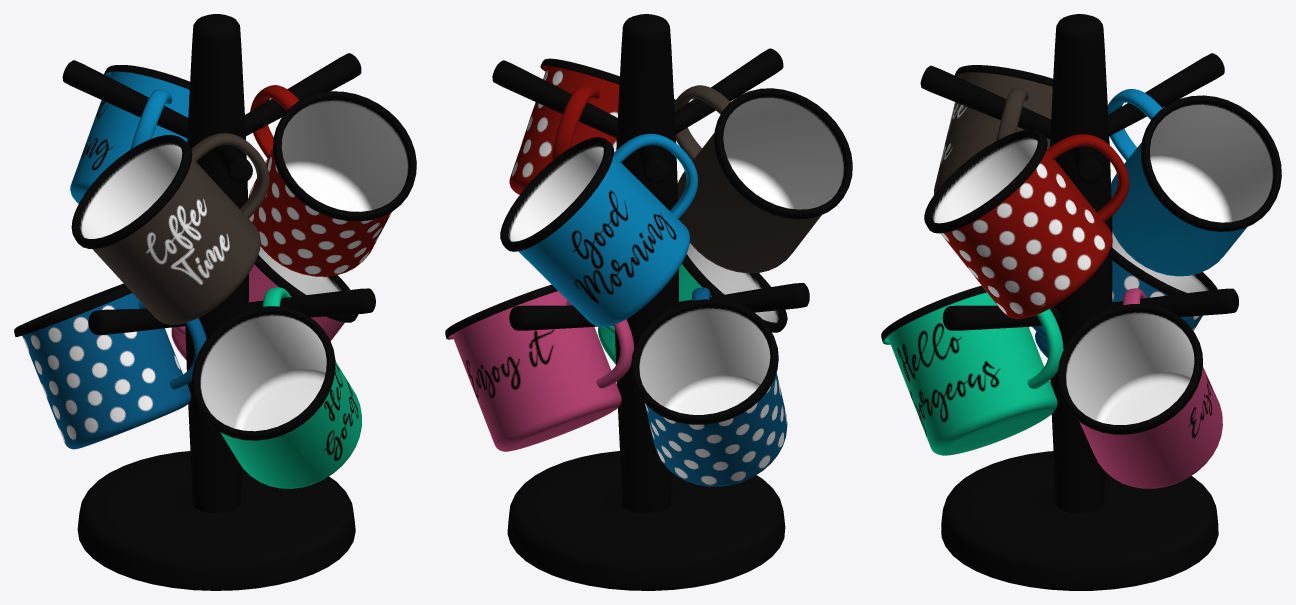
File: metal mug holder.fbx
The picture shows the model from 3 angles, left to right: view 1: azimuth 30°, elevation 25°; view 2: azimuth 150°, elevation 25°; view 3: azimuth 270°, elevation 25°; orthographic projection.
Visible parts, largest first — view 1: mug holder; view 2: mug holder; view 3: mug holder.
Boxes of the visible parts, x1,y1,x2,y2 form: mug holder: (14,14,416,590); mug holder: (445,14,852,590); mug holder: (881,14,1281,590).
Bounding box in the file's own units: 22.35 × 33.67 × 23.77.
1 material, 1 textured.
